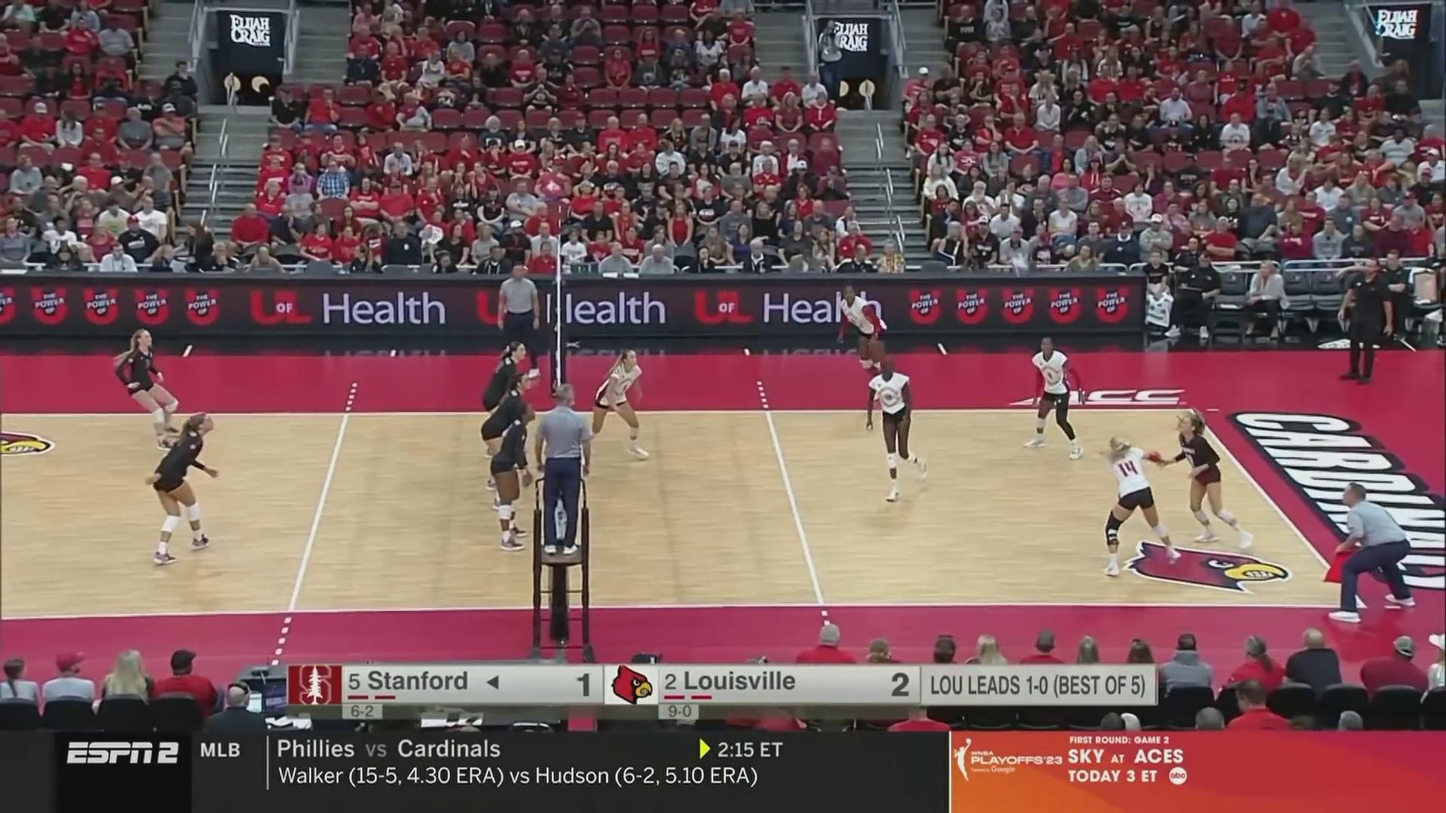player: (1167, 413, 1255, 550), (1100, 435, 1178, 577), (151, 415, 219, 565), (866, 353, 928, 502), (115, 328, 182, 451), (577, 350, 651, 461), (482, 373, 534, 508), (1026, 339, 1085, 456), (837, 284, 895, 400), (493, 405, 537, 552), (484, 340, 528, 465)
refree: (1328, 482, 1417, 622), (537, 382, 593, 554), (497, 265, 540, 376)
